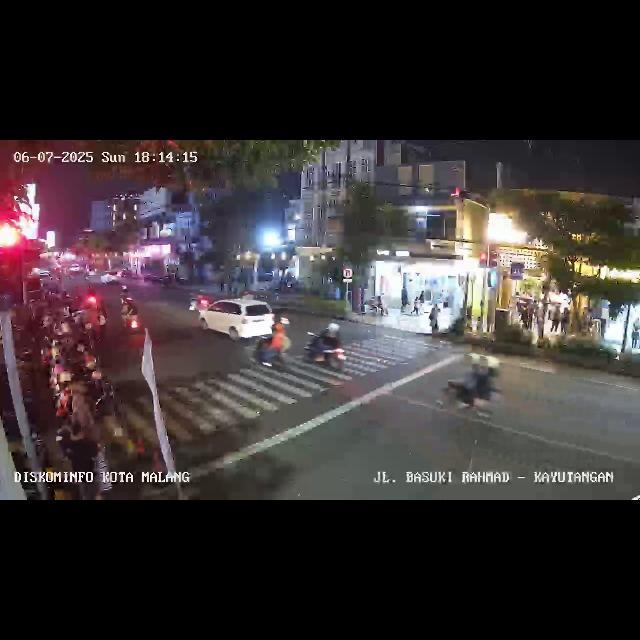car: (197, 298, 279, 344), (100, 270, 124, 286)
motorcycle: (442, 352, 504, 418), (298, 320, 350, 380), (252, 314, 290, 372), (117, 296, 141, 336), (188, 288, 208, 314)
person: (63, 422, 95, 500), (560, 304, 570, 336), (550, 302, 560, 334), (429, 304, 439, 334), (632, 316, 640, 349), (399, 288, 408, 314), (411, 290, 419, 316), (418, 290, 426, 316)
